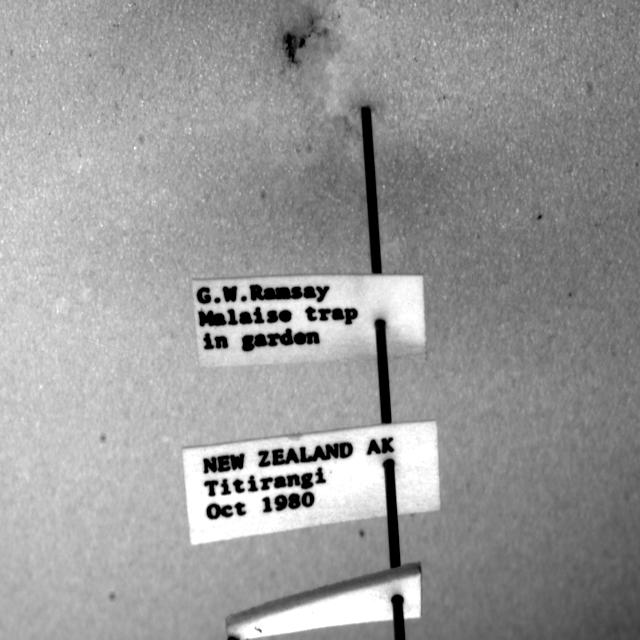typed_label: (182, 422, 440, 544), (192, 274, 426, 368)
